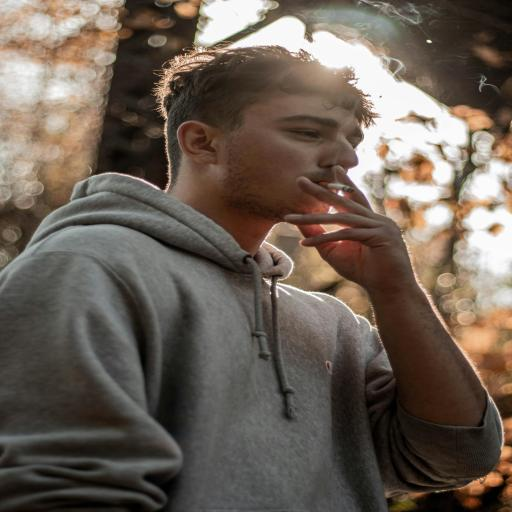terdeteksi merokok: (268, 100, 398, 227)
